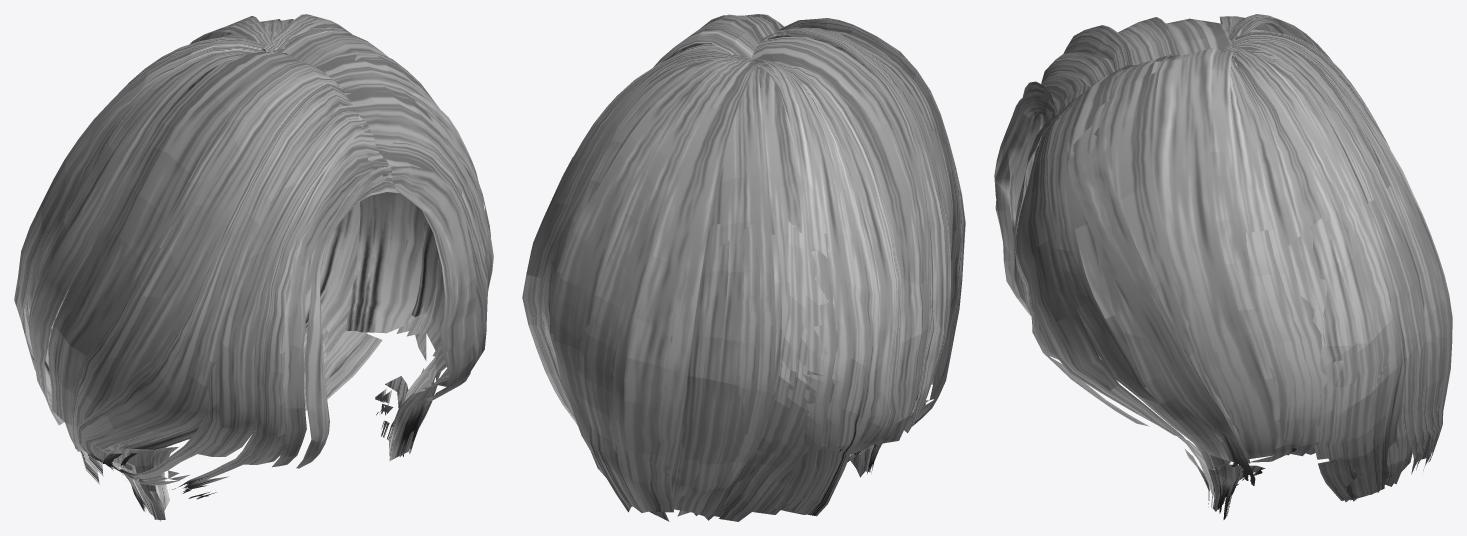
File: daz_hair_sport_ponytail.glb
3 renders of one model, left to right at view 1: azimuth 30°, elevation 25°; view 2: azimuth 150°, elevation 25°; view 3: azimuth 270°, elevation 25°, orthographic. The views are drawn at different scales.
Parts seen in each view (by area): view 1: daz_hair_sport_ponytail; view 2: daz_hair_sport_ponytail; view 3: daz_hair_sport_ponytail.
Boxes of the visible parts, x1,y1,x2,y2 form: daz_hair_sport_ponytail: (14, 14, 493, 521); daz_hair_sport_ponytail: (522, 14, 965, 521); daz_hair_sport_ponytail: (994, 14, 1452, 519).
Size of the model in its own units: 0.2296 by 0.2479 by 0.2381.
1 material, 1 textured.
